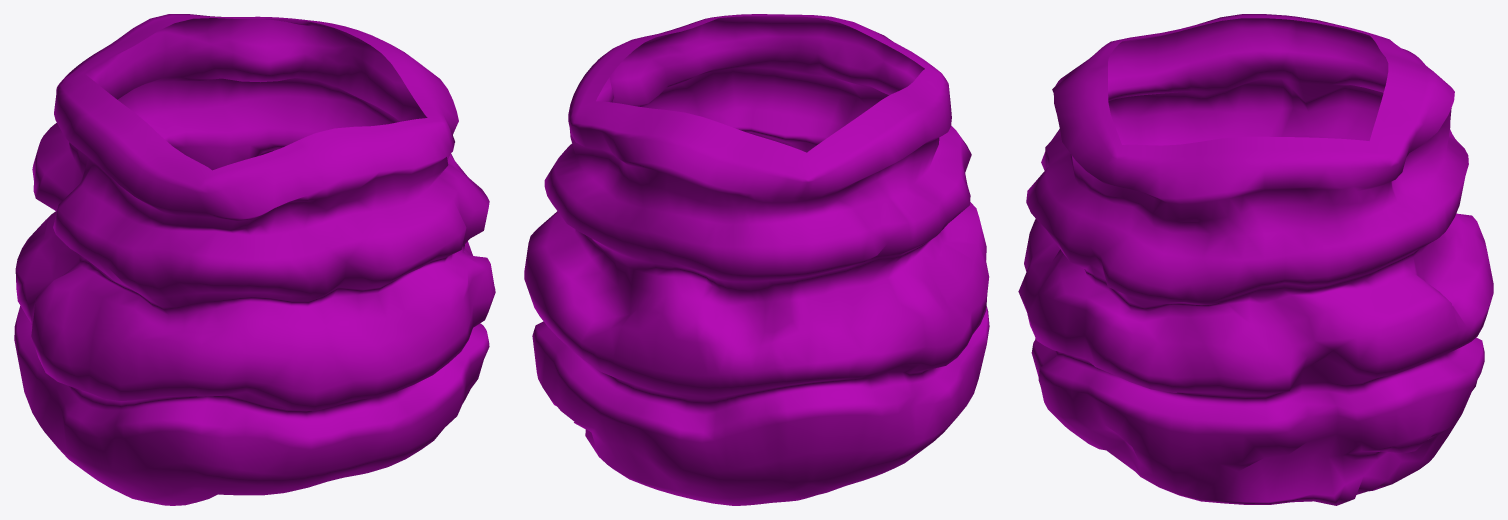
File: Cave_Wall_Pillar.fbx
The picture shows the model from 3 angles, left to right: view 1: azimuth 30°, elevation 25°; view 2: azimuth 150°, elevation 25°; view 3: azimuth 270°, elevation 25°; orthographic projection. The views are drawn at different scales.
Parts seen in each view (by area): view 1: Cave_Wall_Pillar; view 2: Cave_Wall_Pillar; view 3: Cave_Wall_Pillar.
Part boxes in pixels (box(x1,y1,x2,y2)): Cave_Wall_Pillar: box(14, 14, 495, 505); Cave_Wall_Pillar: box(524, 14, 989, 505); Cave_Wall_Pillar: box(1018, 14, 1493, 505).
Bounding box in the file's own units: 113 × 106 × 116.
